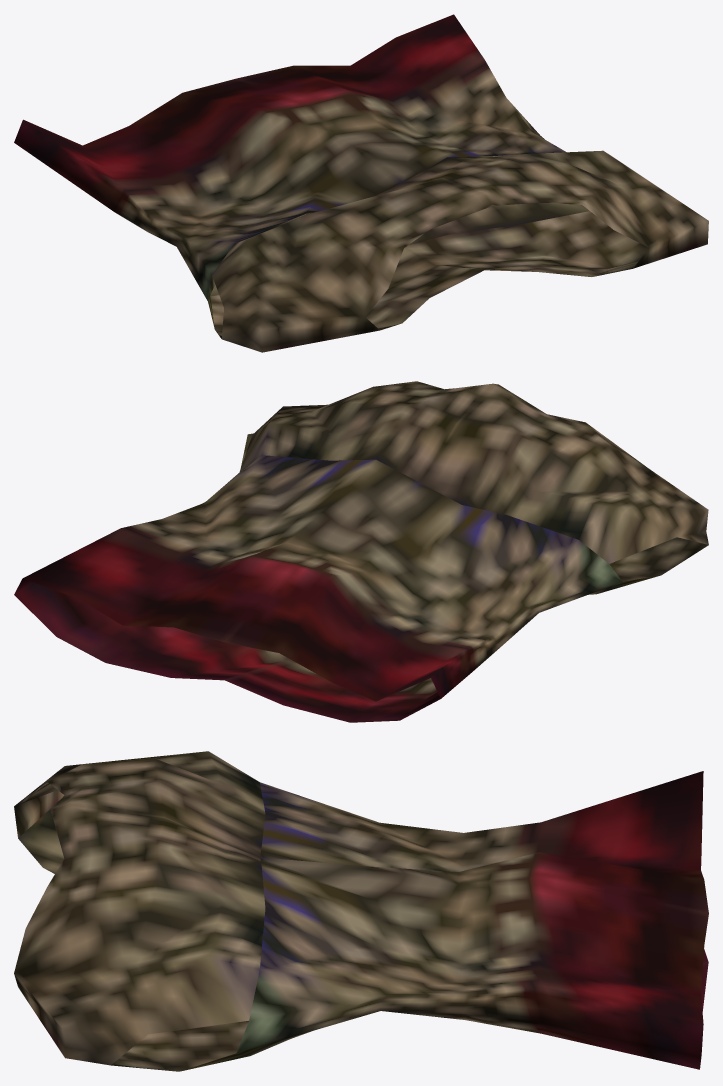
Rendered from INST_MIRK_FIFI_ARMOUR.fbx.
The picture shows the model from 3 angles, top to bottom: view 1: azimuth 30°, elevation 25°; view 2: azimuth 150°, elevation 25°; view 3: azimuth 270°, elevation 25°; orthographic projection. The views are drawn at different scales.
Visible parts, largest first — view 1: INST_MIRK_FIFI_ARMOUR; view 2: INST_MIRK_FIFI_ARMOUR; view 3: INST_MIRK_FIFI_ARMOUR.
Boxes of the visible parts, x1,y1,x2,y2 form: INST_MIRK_FIFI_ARMOUR: (14,14,708,352); INST_MIRK_FIFI_ARMOUR: (14,381,708,722); INST_MIRK_FIFI_ARMOUR: (14,751,708,1071).
Bounding box in the file's own units: 5299 × 1702 × 5422.
Materials: 1 (1 with a texture image).
